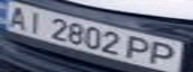0: (81, 24, 103, 52)
2: (42, 15, 72, 43), (100, 28, 127, 56)
8: (63, 20, 87, 46)
A: (0, 2, 33, 30)
I: (21, 8, 51, 35)
P: (148, 39, 187, 69), (124, 34, 157, 62)
